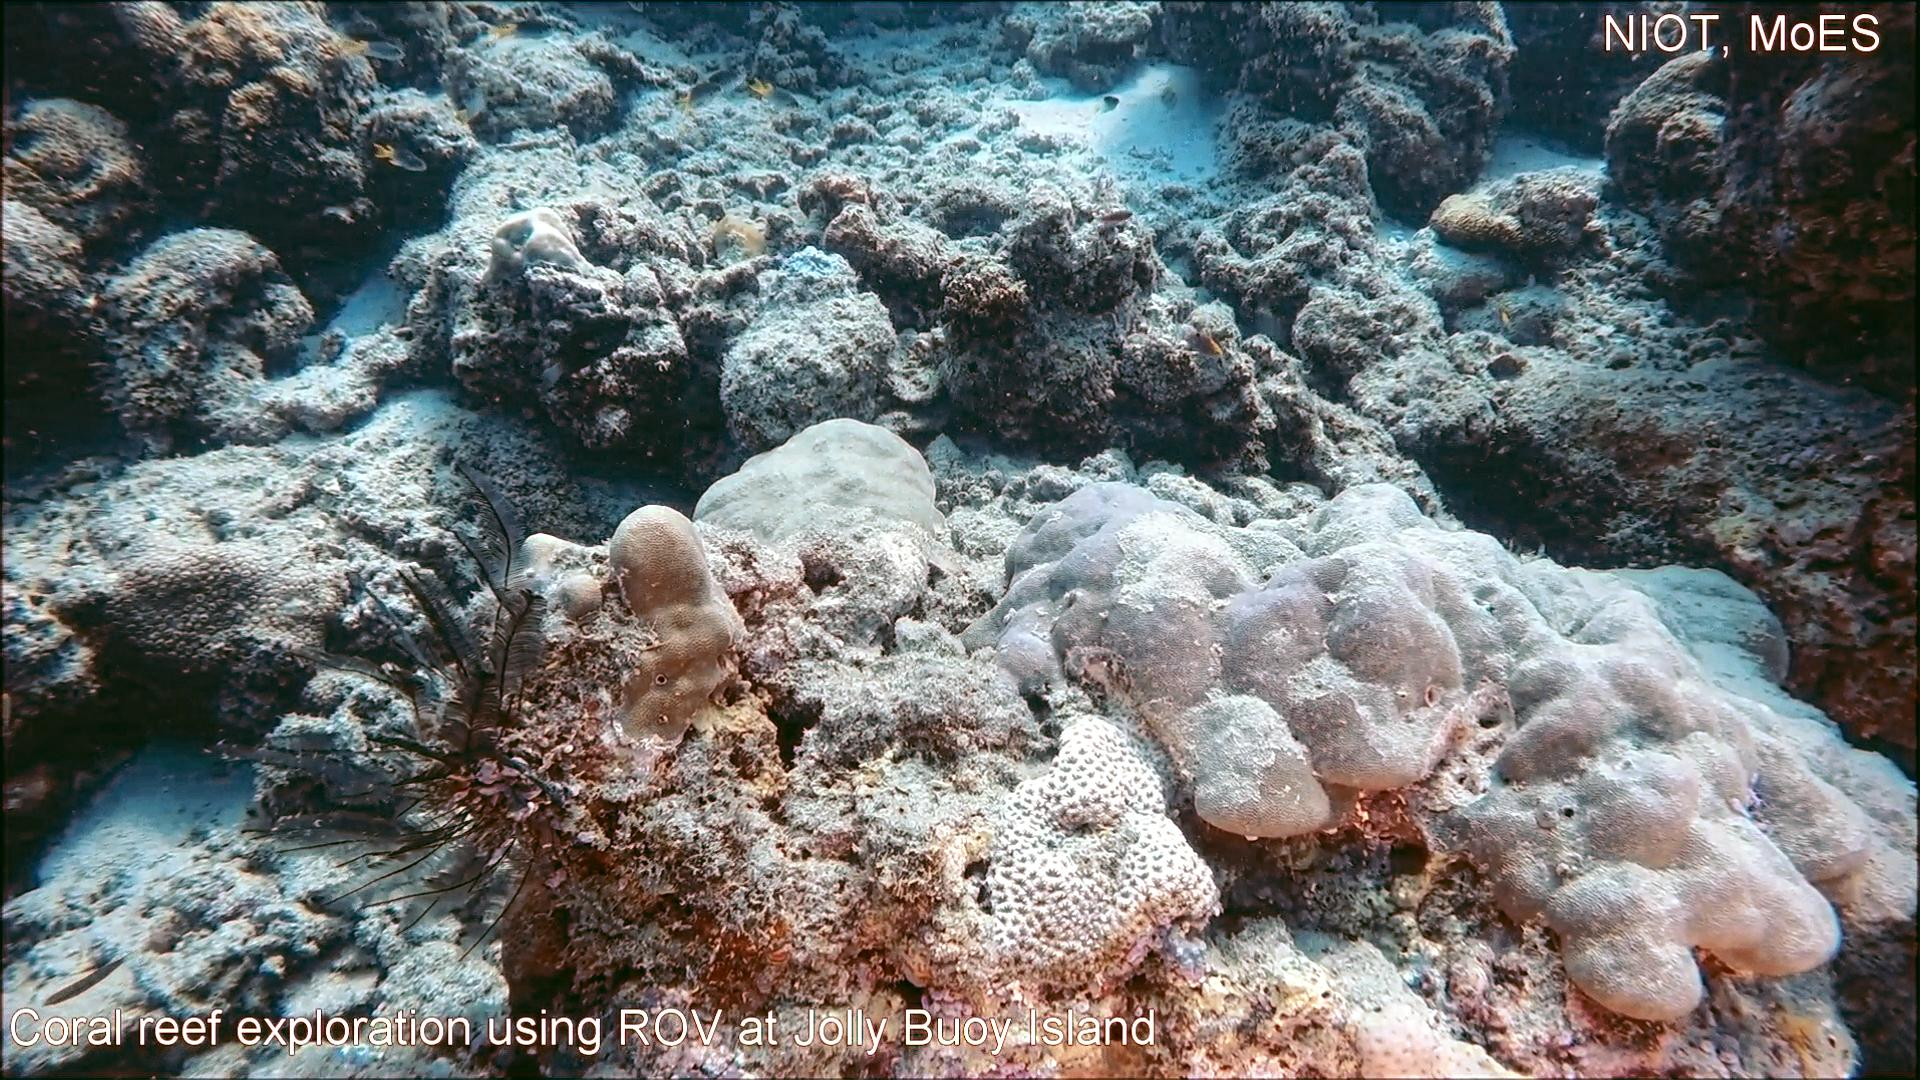Feather star-Crinoid star: (233, 451, 592, 1080)
Goniastrea-Goniastrea pectinata: (978, 707, 1233, 1006)
Porites-Porites pukoensis: (1320, 472, 1920, 1031)
Turbinaria-Turbinaria stellulata: (80, 538, 344, 688)
